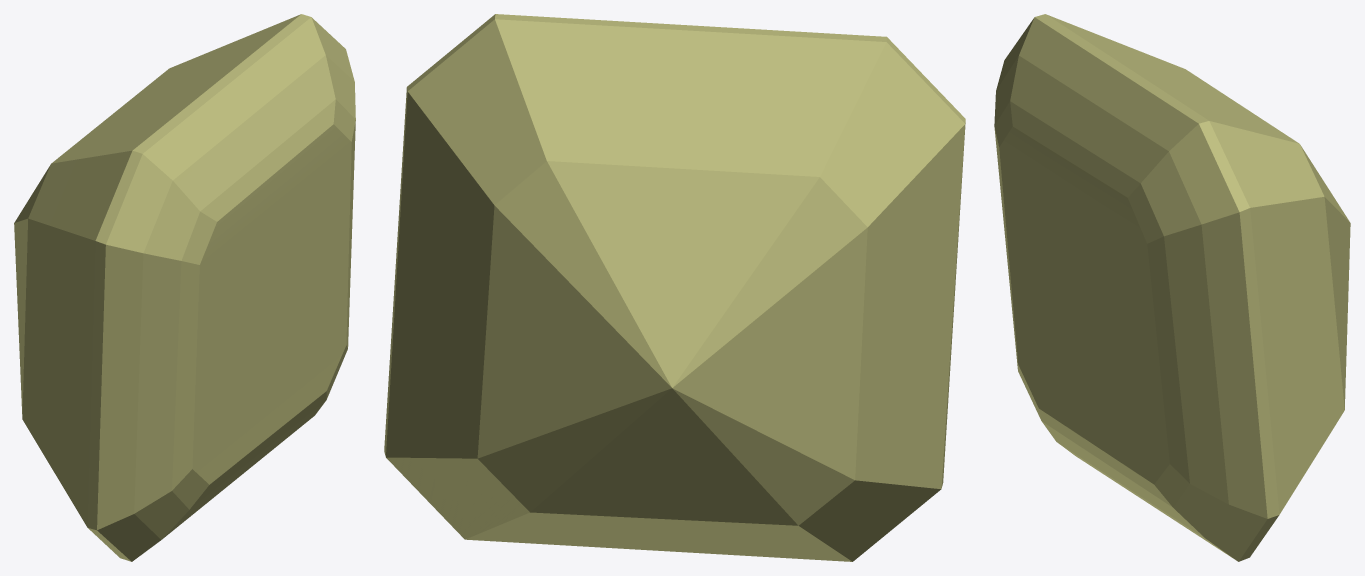
The model's file is TR2_8shapes_Square_Classic_Stone.001 2.glb.
3 views of the same model, side by side, from view 1: azimuth 30°, elevation 25°; view 2: azimuth 150°, elevation 25°; view 3: azimuth 270°, elevation 25° (orthographic). The views are drawn at different scales.
Parts seen in each view (by area): view 1: TR2_8shapes_Square_Classic_Stone.001; view 2: TR2_8shapes_Square_Classic_Stone.001; view 3: TR2_8shapes_Square_Classic_Stone.001.
Boxes of the visible parts, x1,y1,x2,y2 form: TR2_8shapes_Square_Classic_Stone.001: (14, 14, 355, 561); TR2_8shapes_Square_Classic_Stone.001: (384, 14, 965, 561); TR2_8shapes_Square_Classic_Stone.001: (994, 14, 1350, 561).
Bounding box in the file's own units: 0.465 × 0.538 × 0.3839.
